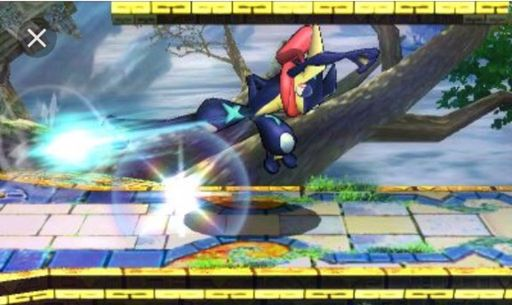greninja: (88, 21, 393, 179)
